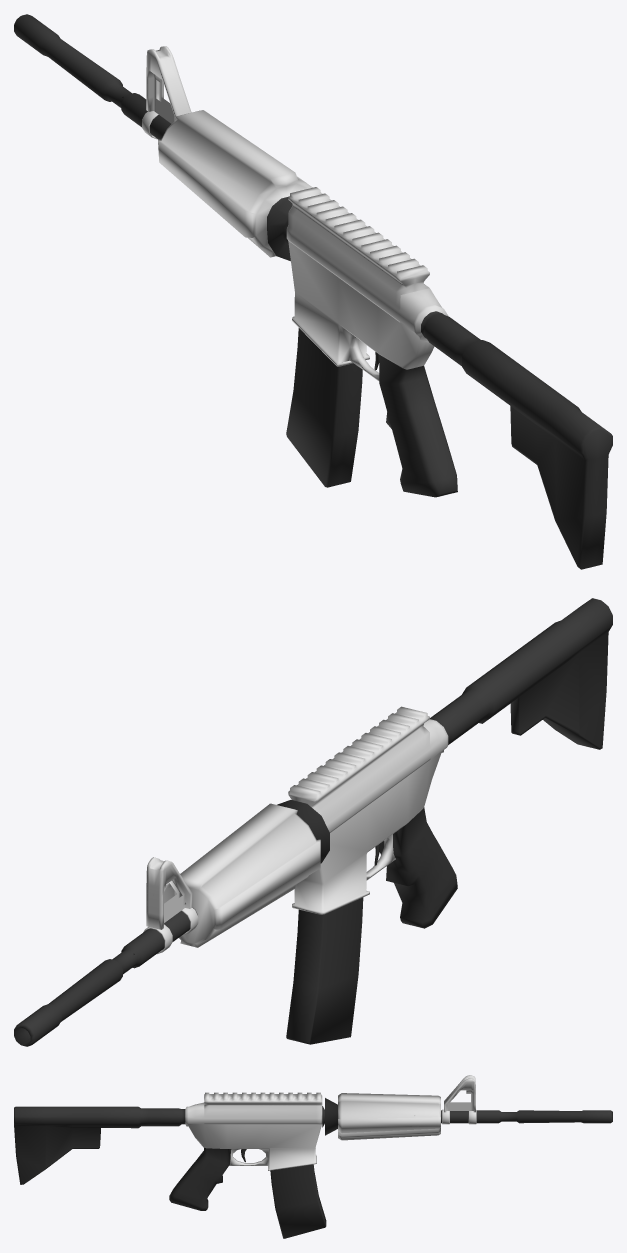
Rendered from EL_Rifle.fbx.
3 renders of one model, top to bottom at view 1: azimuth 30°, elevation 25°; view 2: azimuth 150°, elevation 25°; view 3: azimuth 270°, elevation 25°, orthographic. The views are drawn at different scales.
Visible parts, largest first — view 1: Circle; view 2: Circle; view 3: Circle.
Boxes of the visible parts, x1,y1,x2,y2 form: Circle: (14,14,612,569); Circle: (14,598,612,1046); Circle: (14,1075,612,1238).
Size of the model in its own units: 35.01 by 135 by 463.
Materials: 1 (1 with a texture image).
